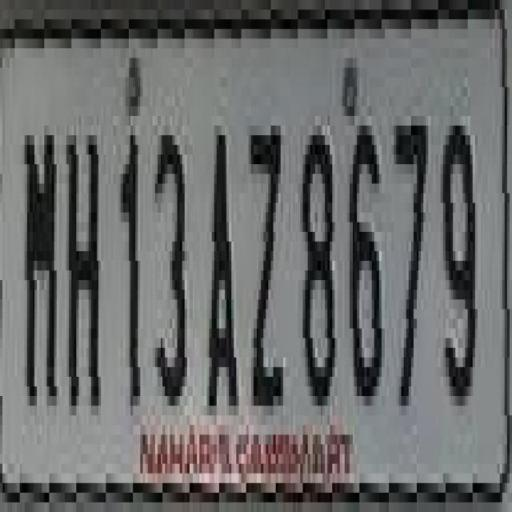number plate: (12, 0, 512, 483)
